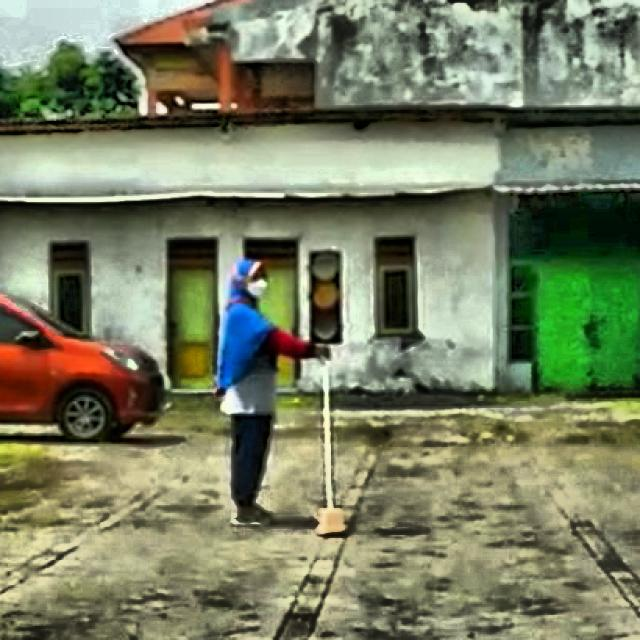yellow: (307, 251, 343, 342)
